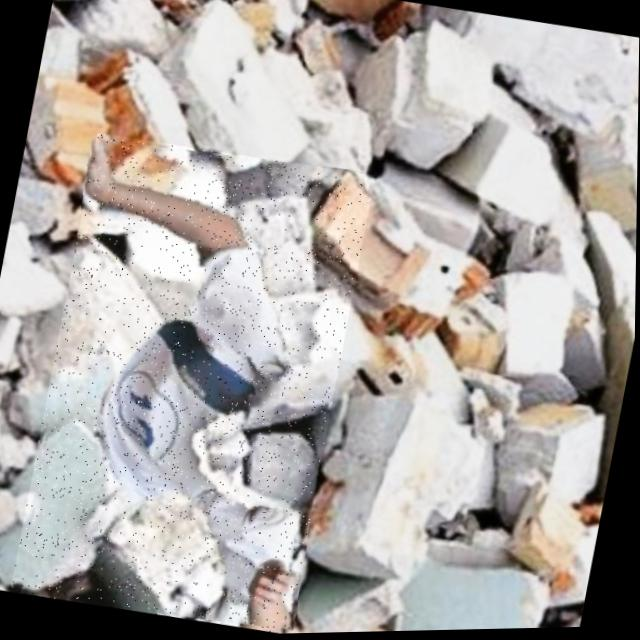Person in Rubble: (10, 127, 374, 640)
